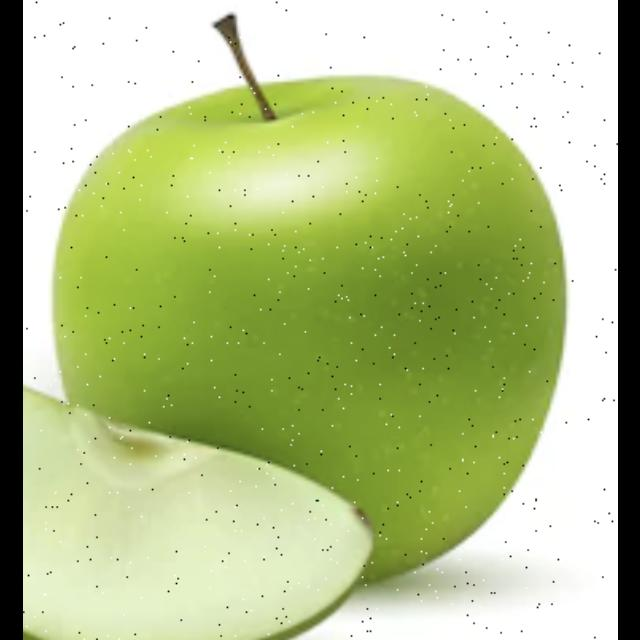Apel Segar: (42, 72, 594, 570)
